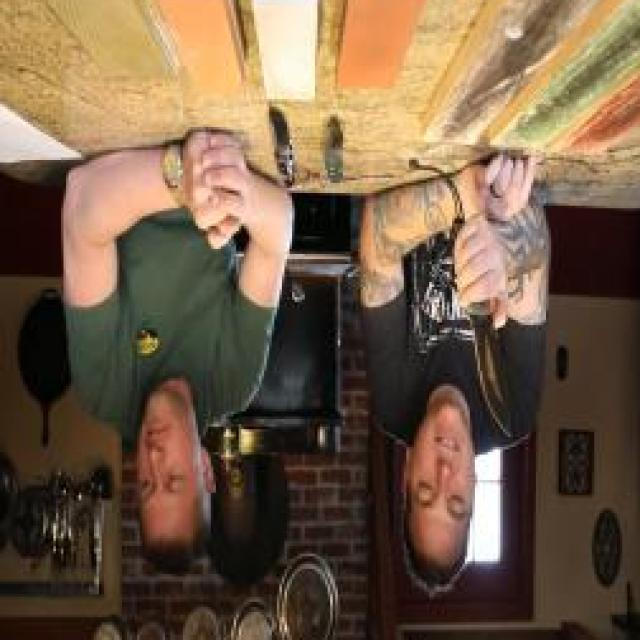knife: (448, 245, 518, 457)
